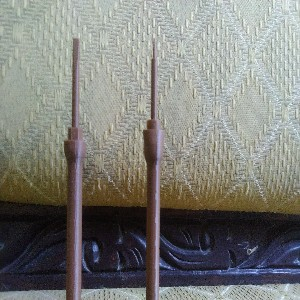obeng: (63, 36, 88, 300)
solder: (142, 38, 166, 300)
